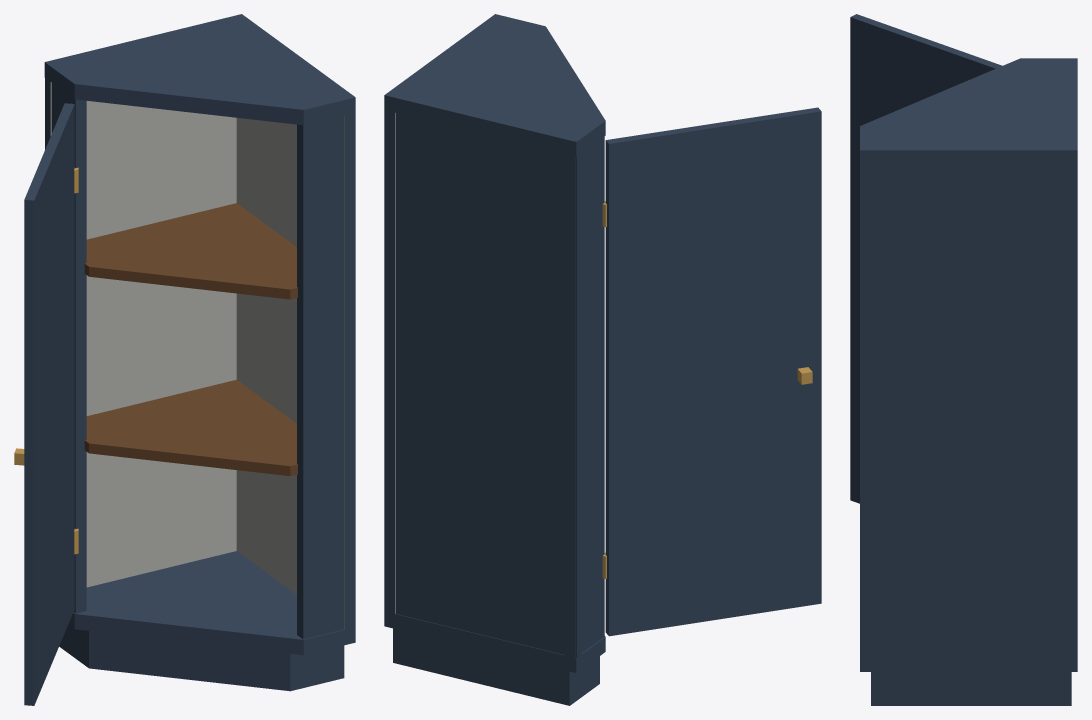
File: FN_Cabinet_Corner.glb
3 views of the same model, side by side, from view 1: azimuth 30°, elevation 25°; view 2: azimuth 150°, elevation 25°; view 3: azimuth 270°, elevation 25° (orthographic). The views are drawn at different scales.
Visible parts, largest first — view 1: FN_Cabinet_Corner; view 2: FN_Cabinet_Corner; view 3: FN_Cabinet_Corner.
Part boxes in pixels (x1=…): FN_Cabinet_Corner: x1=14, y1=14, x2=355, y2=705; FN_Cabinet_Corner: x1=384, y1=14, x2=821, y2=705; FN_Cabinet_Corner: x1=850, y1=14, x2=1077, y2=705.
Bounding box in the file's own units: 0.9092 × 1.52 × 0.5612.
1 material, 1 textured.
